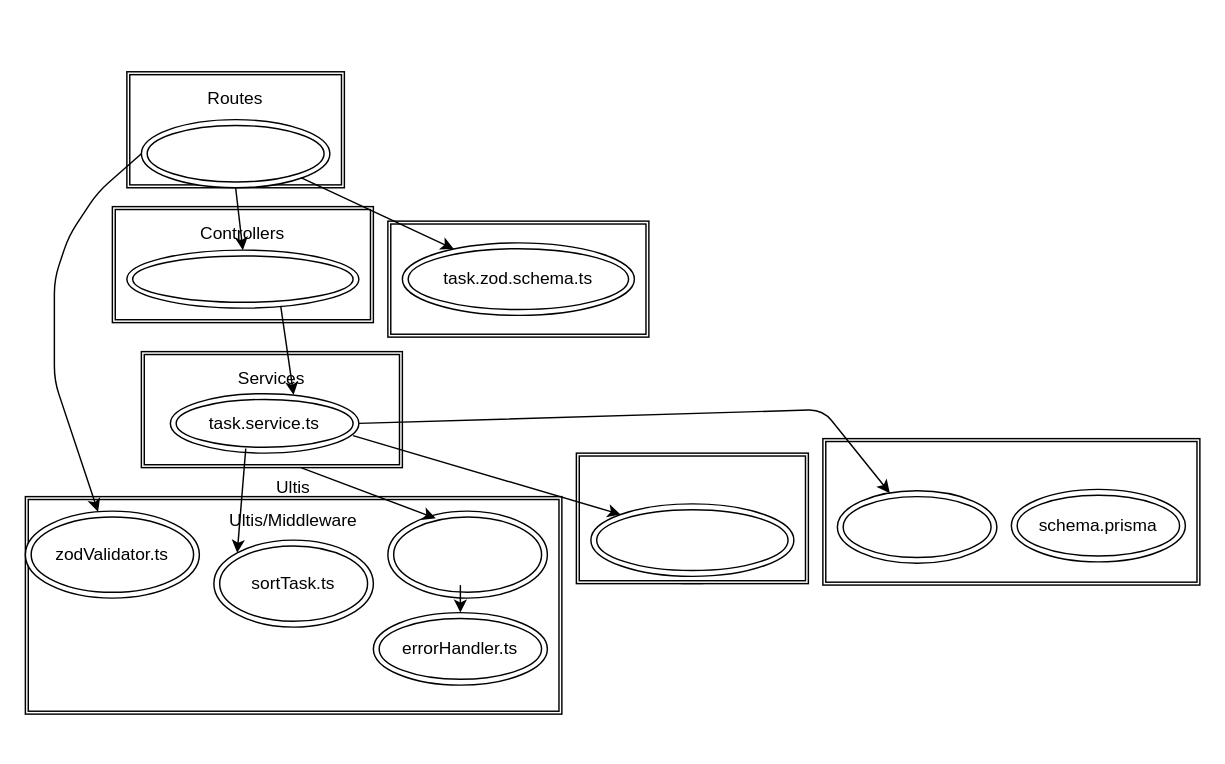
Some shapes in this 1225 by 764 pixel diagram are drawn without their labels. Each missing label, with the centre of its shape:
AppError.ts: the point at 466,554
Prisma Client / DB client.ts: the point at 916,526
Shared Types (Library) task.types.ts: the point at 691,539
task.controller.ts: the point at 242,278
task.routes.ts: the point at 235,153
